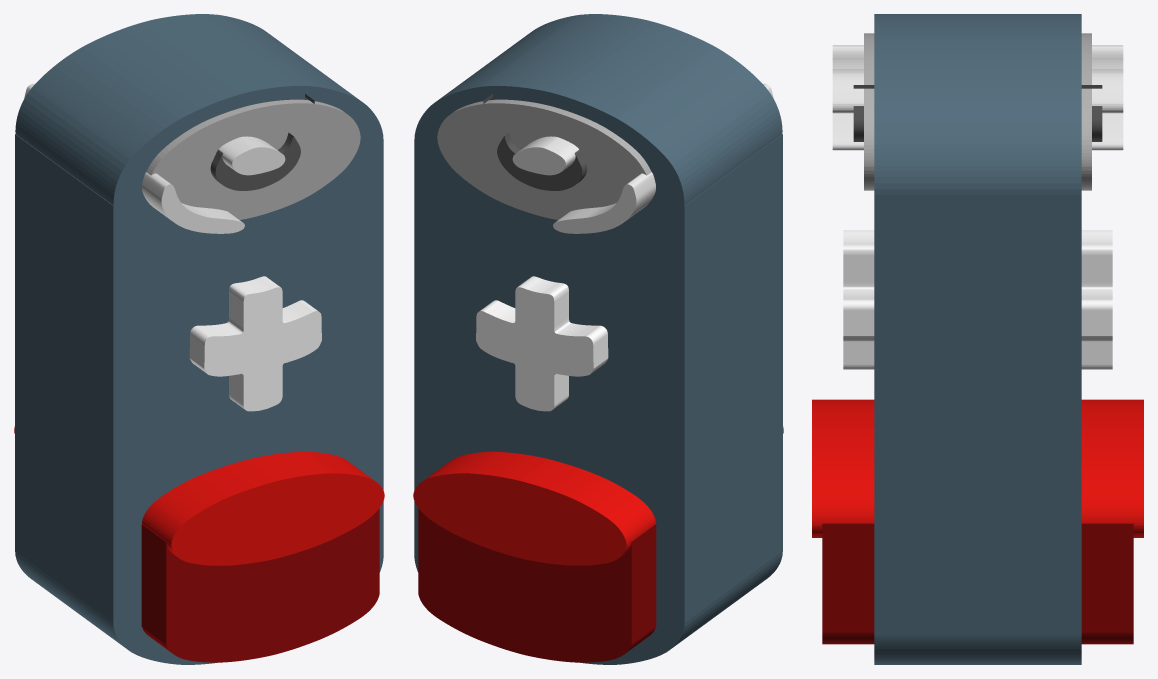
The model's file is U+1FAAB.obj.
3 views of the same model, side by side, from view 1: azimuth 30°, elevation 25°; view 2: azimuth 150°, elevation 25°; view 3: azimuth 270°, elevation 25° (orthographic). The views are drawn at different scales.
Parts seen in each view (by area): view 1: U+1FAAB_layer00_obj00, U+1FAAB_layer05_obj00, U+1FAAB_layer06_obj00, U+1FAAB_layer01_obj00, U+1FAAB_layer03_obj00, U+1FAAB_layer04_obj00, U+1FAAB_layer02_obj01, U+1FAAB_layer04_obj01; view 2: U+1FAAB_layer00_obj00, U+1FAAB_layer05_obj00, U+1FAAB_layer06_obj00, U+1FAAB_layer01_obj00, U+1FAAB_layer03_obj00, U+1FAAB_layer04_obj00, U+1FAAB_layer02_obj01, U+1FAAB_layer04_obj01; view 3: U+1FAAB_layer00_obj00, U+1FAAB_layer06_obj00, U+1FAAB_layer05_obj00, U+1FAAB_layer03_obj00, U+1FAAB_layer01_obj00, U+1FAAB_layer04_obj00, U+1FAAB_layer04_obj01, U+1FAAB_layer02_obj01.
Part boxes in pixels (x1,y1,x2,y2): U+1FAAB_layer00_obj00: (15,14,383,664); U+1FAAB_layer05_obj00: (141,508,379,662); U+1FAAB_layer06_obj00: (14,426,384,565); U+1FAAB_layer01_obj00: (146,99,360,219); U+1FAAB_layer03_obj00: (189,276,321,411); U+1FAAB_layer04_obj00: (24,83,244,233); U+1FAAB_layer02_obj01: (210,132,300,190); U+1FAAB_layer04_obj01: (219,136,285,175); U+1FAAB_layer00_obj00: (414,14,782,664); U+1FAAB_layer05_obj00: (418,508,656,662); U+1FAAB_layer06_obj00: (413,426,783,565); U+1FAAB_layer01_obj00: (437,99,651,219); U+1FAAB_layer03_obj00: (476,276,608,411); U+1FAAB_layer04_obj00: (553,83,773,233); U+1FAAB_layer02_obj01: (497,132,587,190); U+1FAAB_layer04_obj01: (512,136,578,175); U+1FAAB_layer00_obj00: (874,14,1081,664); U+1FAAB_layer06_obj00: (812,399,1143,537); U+1FAAB_layer05_obj00: (822,523,1133,644); U+1FAAB_layer03_obj00: (843,230,1112,369); U+1FAAB_layer01_obj00: (864,33,1091,190); U+1FAAB_layer04_obj00: (832,45,1123,150); U+1FAAB_layer04_obj01: (832,69,1123,113); U+1FAAB_layer02_obj01: (853,106,1102,141).
Bounding box in the file's own units: 0.1589 × 0.3174 × 0.16.
